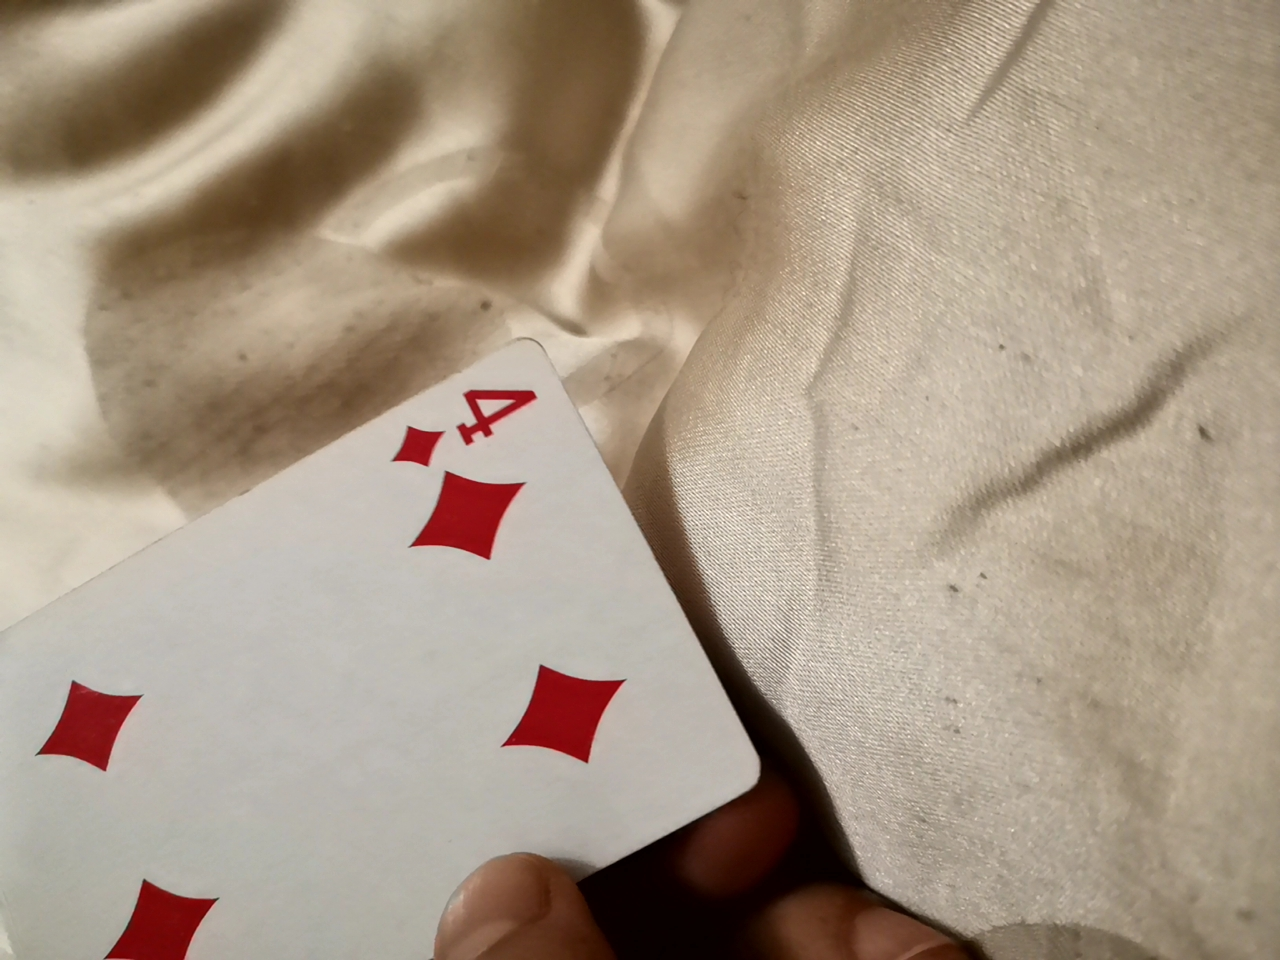fk 4: (1, 330, 761, 951)
